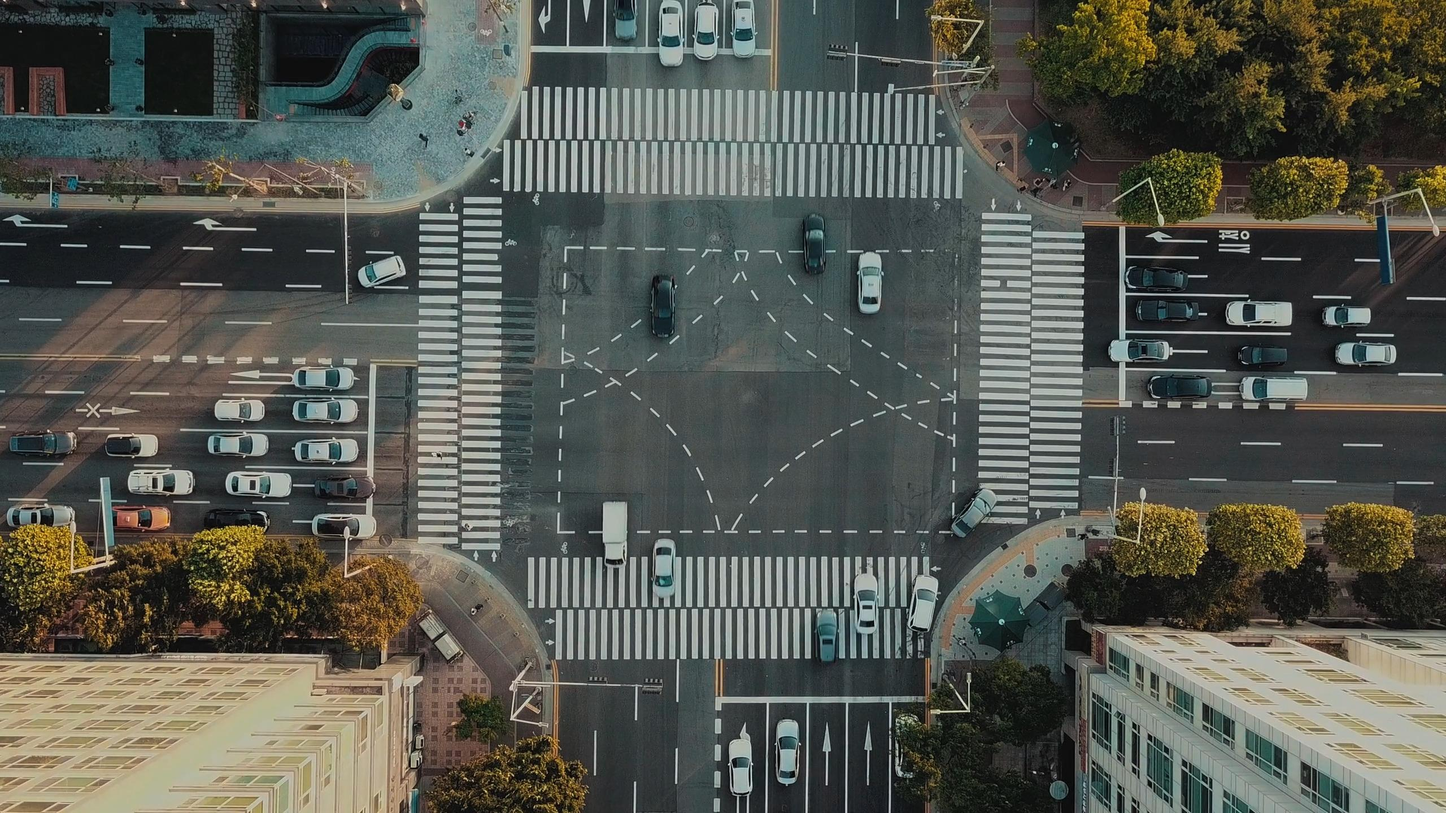car: (949, 487, 1000, 540), (600, 499, 630, 570), (126, 468, 196, 498), (905, 574, 940, 634), (1238, 375, 1310, 404), (656, 0, 686, 69), (7, 430, 78, 459), (1223, 299, 1294, 328), (224, 470, 294, 499), (1133, 297, 1203, 326), (854, 250, 885, 315), (648, 273, 678, 340), (1332, 339, 1399, 369), (291, 397, 360, 426), (1145, 373, 1214, 402), (354, 255, 411, 290), (1123, 263, 1191, 292), (204, 430, 271, 459), (291, 437, 360, 465), (799, 211, 828, 276), (291, 364, 358, 392), (728, 0, 759, 60), (774, 719, 801, 787), (311, 513, 378, 539), (852, 573, 880, 635), (650, 537, 678, 599), (1106, 337, 1172, 363), (312, 474, 377, 500), (726, 739, 755, 797), (692, 2, 720, 62), (813, 610, 841, 668), (1234, 341, 1289, 370), (104, 433, 160, 459), (213, 397, 268, 423), (1320, 303, 1372, 330)
